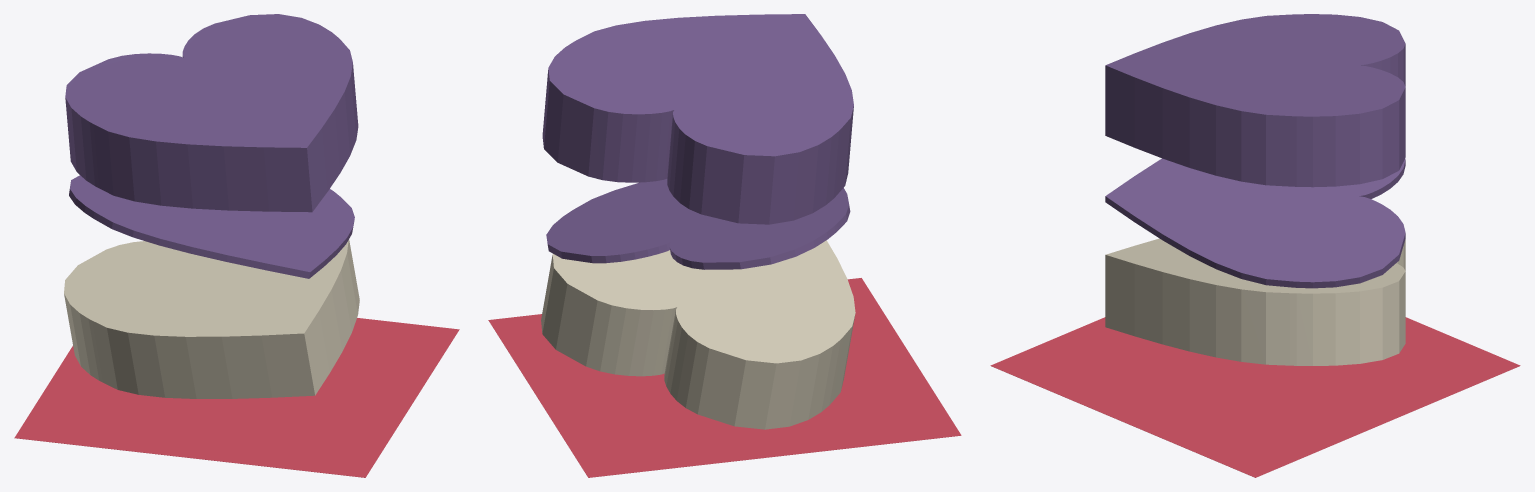
File: VUU.glb
3 renders of one model, left to right at view 1: azimuth 30°, elevation 25°; view 2: azimuth 150°, elevation 25°; view 3: azimuth 270°, elevation 25°, orthographic. The views are drawn at different scales.
Parts seen in each view (by area): view 1: Mesh_Mesh_head_geo.001_lambert2SG.001; view 2: Mesh_Mesh_head_geo.001_lambert2SG.001; view 3: Mesh_Mesh_head_geo.001_lambert2SG.001.
Boxes of the visible parts, x1,y1,x2,y2 form: Mesh_Mesh_head_geo.001_lambert2SG.001: (14, 14, 459, 477); Mesh_Mesh_head_geo.001_lambert2SG.001: (488, 14, 961, 477); Mesh_Mesh_head_geo.001_lambert2SG.001: (990, 14, 1520, 477).
Bounding box in the file's own units: 0.0354 × 0.0229 × 0.0354.
